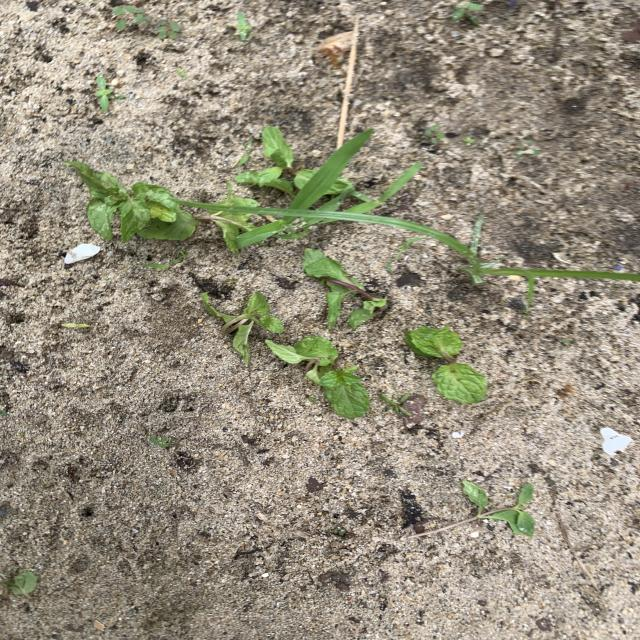crop: (66, 162, 197, 242), (265, 337, 370, 419), (407, 481, 534, 539), (303, 249, 386, 329), (405, 327, 487, 404), (201, 292, 284, 364), (234, 126, 313, 198), (197, 211, 254, 254), (212, 189, 259, 208), (326, 178, 353, 196)
weed: (180, 201, 640, 315), (289, 129, 372, 210), (335, 163, 422, 213), (238, 217, 310, 248), (380, 393, 426, 423), (386, 238, 420, 272), (323, 193, 351, 211)
